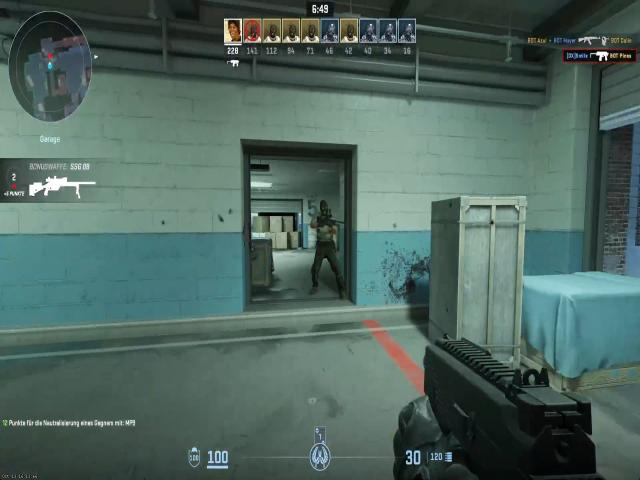T: (313, 200, 337, 259)
T-Head: (317, 202, 332, 222)
